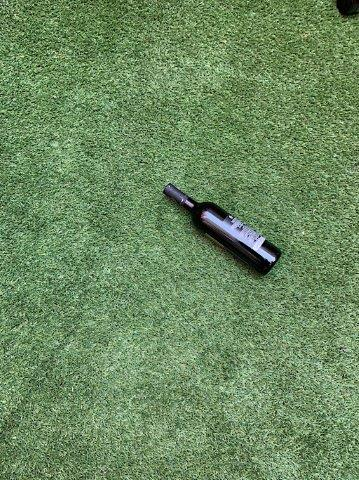botolkaca: (161, 183, 280, 274)
